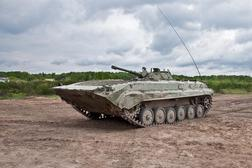bmp: (52, 65, 216, 126)
